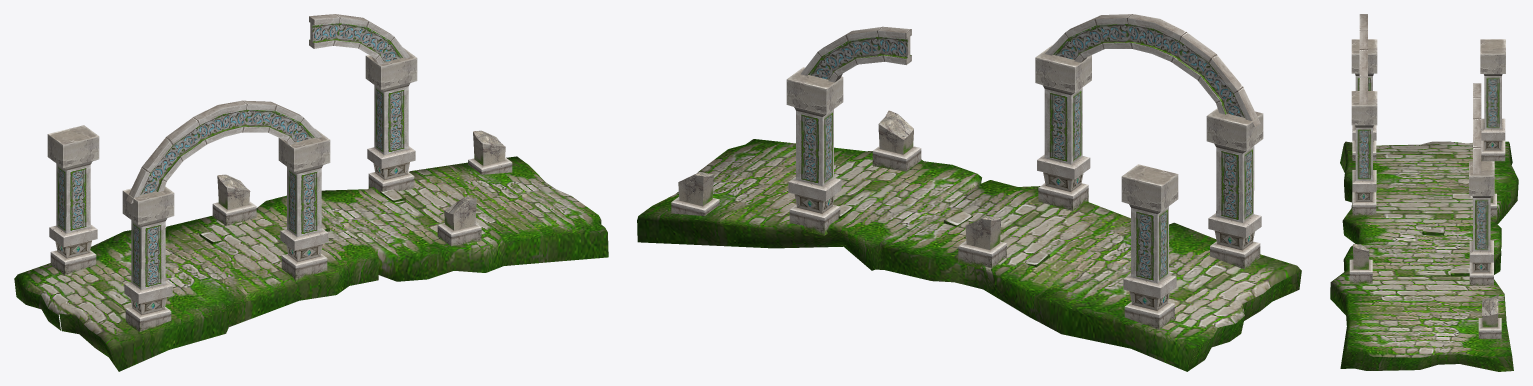
File: F02_bridge01.FBX
3 renders of one model, left to right at view 1: azimuth 30°, elevation 25°; view 2: azimuth 150°, elevation 25°; view 3: azimuth 270°, elevation 25°, orthographic. The views are drawn at different scales.
Parts seen in each view (by area): view 1: F02_bridge01, F02_pillar005, F02_pillar02_a001, F02_pillar02_a002, F02_pillar02_a004, F02_pillar02_a003, F02_pillar004, F02_pillar02_b001, F02_pillar02_b003, F02_pillar02_b002; view 2: F02_bridge01, F02_pillar005, F02_pillar02_a001, F02_pillar02_a003, F02_pillar02_a002, F02_pillar02_a004, F02_pillar004, F02_pillar02_b003, F02_pillar02_b001, F02_pillar02_b002; view 3: F02_bridge01, F02_pillar02_a001, F02_pillar02_a002, F02_pillar02_a003, F02_pillar02_a004, F02_pillar02_b002, F02_pillar02_b003, F02_pillar004, F02_pillar005, F02_pillar02_b001.
Part boxes in pixels (bbox=[...]): F02_bridge01: bbox=[14, 156, 608, 371]; F02_pillar005: bbox=[126, 100, 321, 203]; F02_pillar02_a001: bbox=[47, 125, 99, 275]; F02_pillar02_a002: bbox=[278, 129, 330, 281]; F02_pillar02_a004: bbox=[122, 186, 174, 331]; F02_pillar02_a003: bbox=[365, 47, 417, 191]; F02_pillar004: bbox=[309, 14, 409, 64]; F02_pillar02_b001: bbox=[212, 174, 256, 225]; F02_pillar02_b003: bbox=[437, 196, 481, 246]; F02_pillar02_b002: bbox=[468, 130, 512, 174]; F02_bridge01: bbox=[637, 139, 1301, 371]; F02_pillar005: bbox=[1045, 14, 1260, 127]; F02_pillar02_a001: bbox=[1121, 164, 1178, 329]; F02_pillar02_a003: bbox=[786, 67, 843, 235]; F02_pillar02_a002: bbox=[1035, 45, 1091, 210]; F02_pillar02_a004: bbox=[1206, 108, 1263, 269]; F02_pillar004: bbox=[800, 26, 911, 82]; F02_pillar02_b003: bbox=[872, 110, 921, 171]; F02_pillar02_b001: bbox=[958, 216, 1006, 268]; F02_pillar02_b002: bbox=[671, 172, 719, 215]; F02_bridge01: bbox=[1330, 141, 1518, 371]; F02_pillar02_a001: bbox=[1480, 39, 1505, 161]; F02_pillar02_a002: bbox=[1351, 91, 1377, 215]; F02_pillar02_a003: bbox=[1469, 161, 1494, 285]; F02_pillar02_a004: bbox=[1351, 39, 1377, 160]; F02_pillar02_b002: bbox=[1478, 294, 1501, 338]; F02_pillar02_b003: bbox=[1349, 244, 1372, 283]; F02_pillar004: bbox=[1473, 83, 1481, 174]; F02_pillar005: bbox=[1359, 14, 1367, 104]; F02_pillar02_b001: bbox=[1490, 193, 1496, 219].
Size of the model in its own units: 1415 by 617 by 536.
